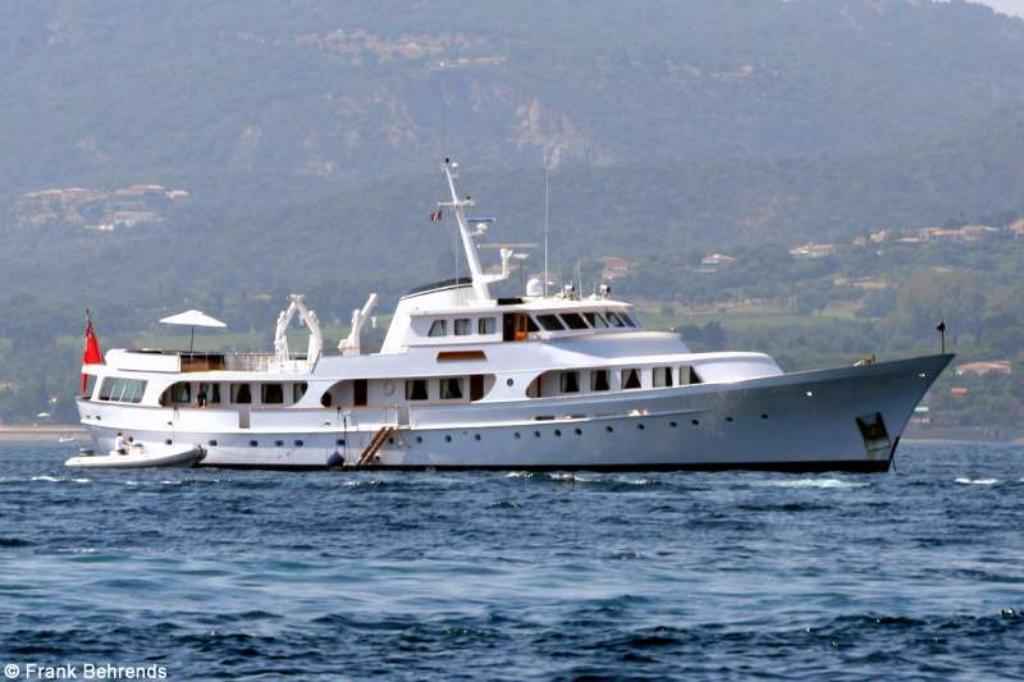PassengerShip: (80, 169, 958, 473)
